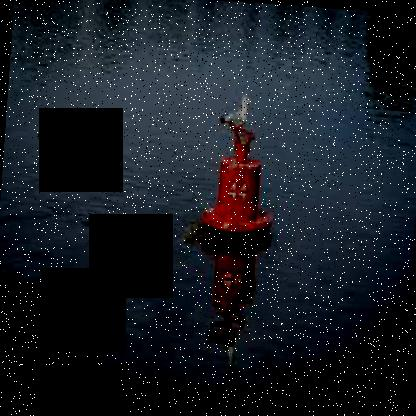Buoy: (194, 120, 284, 257)
